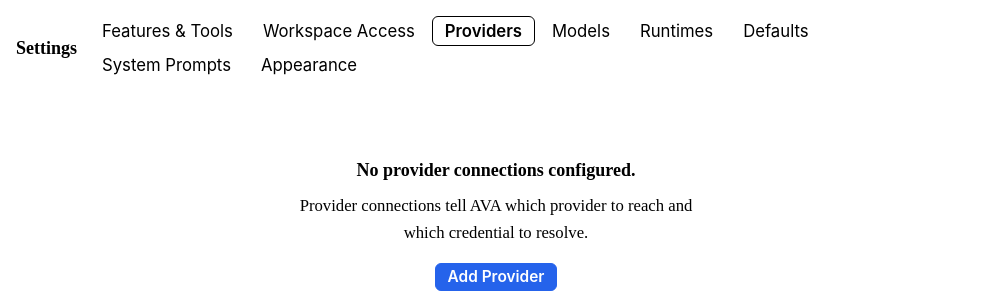
Test case: Settings model section › loads configured models
Click the tab "Models".
click(581, 31)  # box [539,16,623,46]
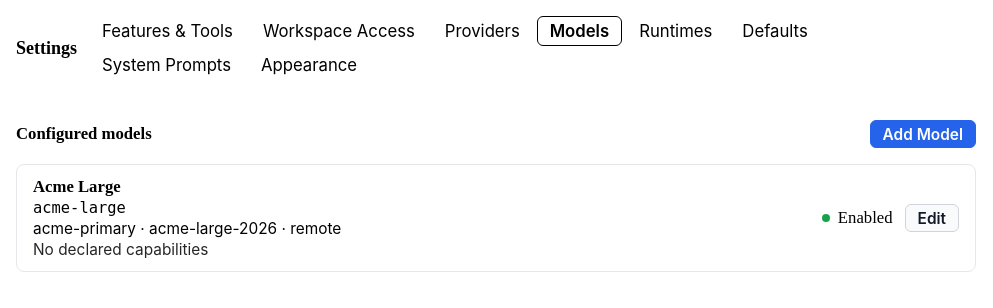
Now the text "Acme Large" is shown, box [33,177,121,196]
Now the text "acme-primary · acme-large-2026 · remote" is shown, box [33,219,341,238]
